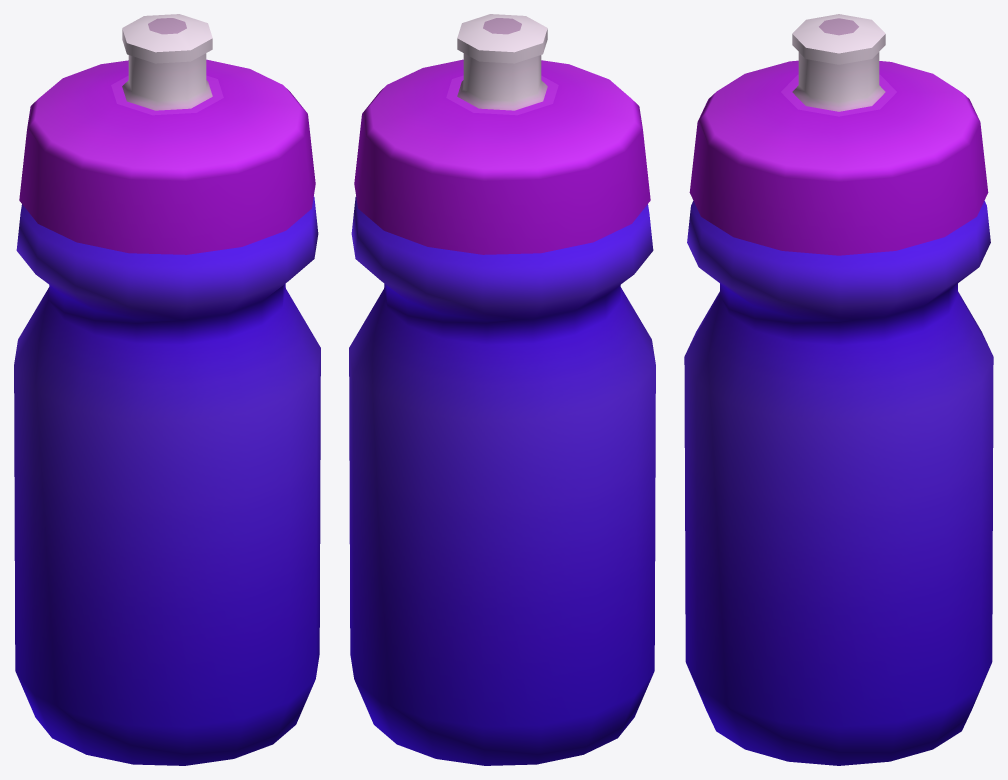
File: bottle.glb
3 views of the same model, side by side, from view 1: azimuth 30°, elevation 25°; view 2: azimuth 150°, elevation 25°; view 3: azimuth 270°, elevation 25° (orthographic).
Visible parts, largest first — view 1: bottle3; view 2: bottle3; view 3: bottle3.
Part boxes in pixels (x1,y1,x2,y2): bottle3: (14, 14, 320, 765); bottle3: (349, 14, 655, 765); bottle3: (684, 14, 993, 765).
Bounding box in the file's own units: 0.1049 × 0.26 × 0.1049.
Materials: 1 (1 with a texture image).
